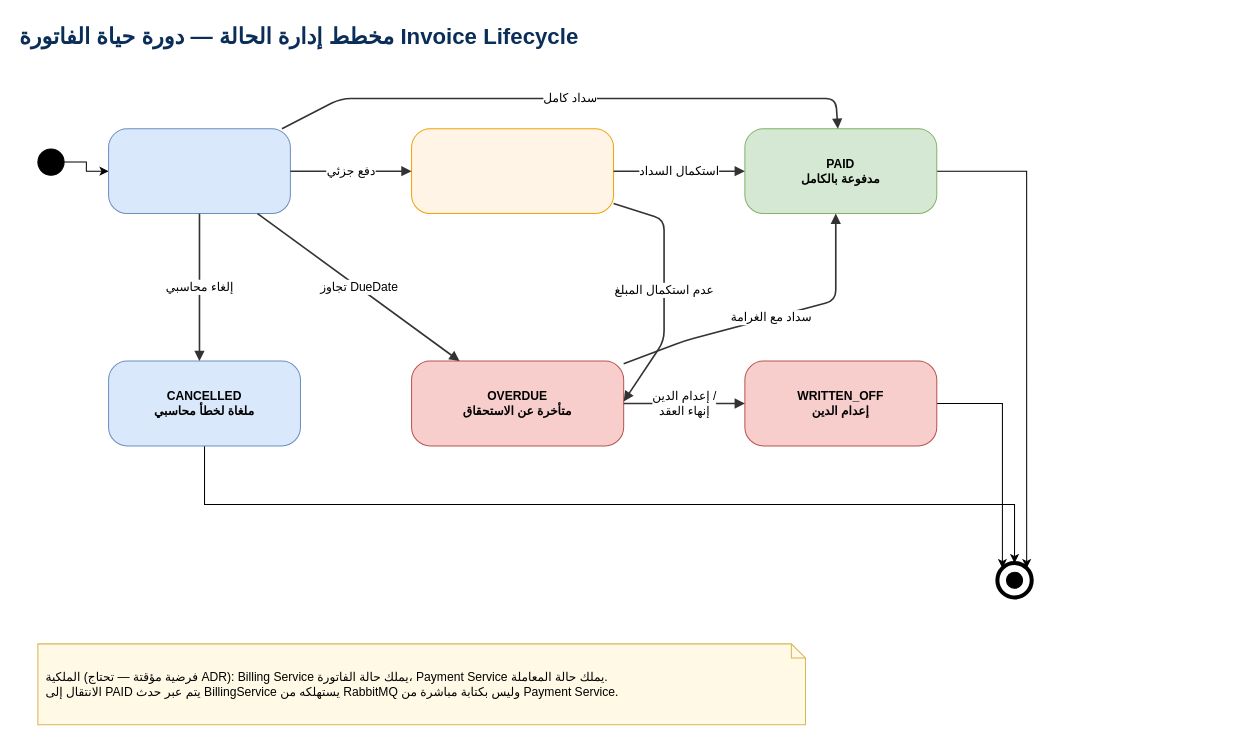
Image size: 1246x742. Some labels were removed from this diagram. The shapes that lost their labels are listed below. From the top down, each one's centre as x and y in pixels, then its label:
At pixel 199 171: "UNPAID غير مدفوعة".
At pixel 512 171: "PARTIALLY_PAID مدفوعة جزئياً".
